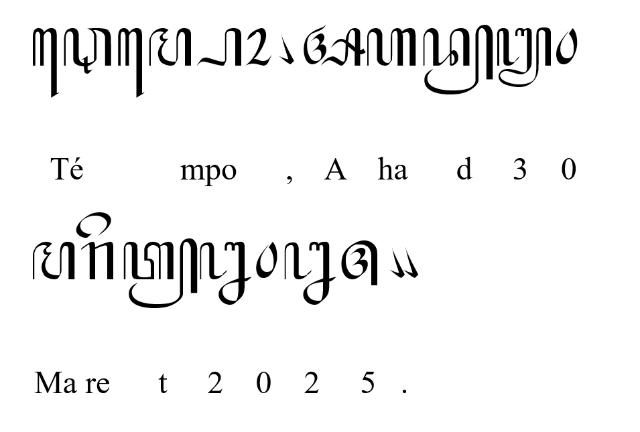-t: (124, 237, 198, 309)
0: (556, 28, 578, 64), (256, 242, 278, 278)
5: (342, 240, 378, 286)
A: (304, 24, 366, 66)
T: (62, 26, 111, 74)
_p: (195, 27, 242, 67)
d: (422, 23, 493, 95)
e: (76, 212, 112, 239)
e1: (118, 26, 144, 98), (32, 28, 58, 98)
h: (366, 28, 416, 66)
kom: (403, 246, 419, 280), (278, 34, 294, 64), (390, 246, 404, 278)
m: (33, 241, 76, 280), (149, 28, 193, 66)
ngna: (199, 241, 251, 305), (284, 241, 336, 305)
ngya: (497, 27, 553, 88)
o: (246, 26, 272, 66)
r: (80, 242, 114, 280)
